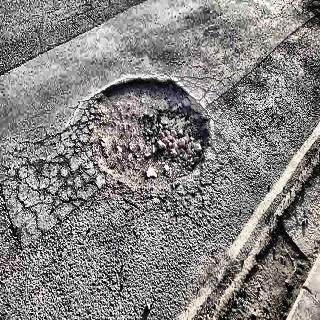alligator-crack: (27, 118, 92, 263)
crack: (0, 155, 25, 288)
pothole: (77, 58, 215, 195)
